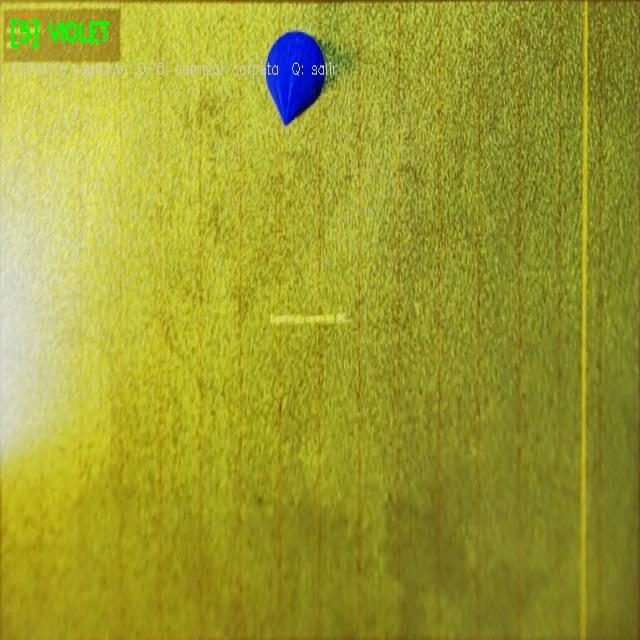violet: (266, 31, 327, 124)
